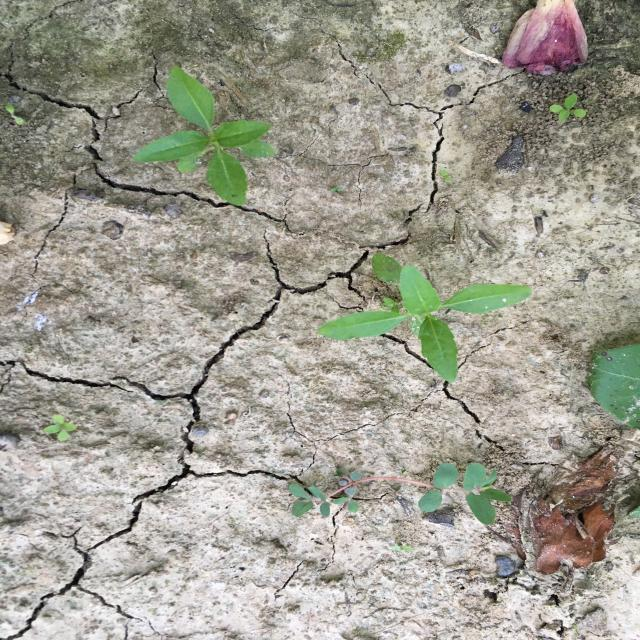Eclipta: (315, 251, 534, 385), (134, 65, 278, 207)
SpottedSpurge: (286, 461, 514, 526)
